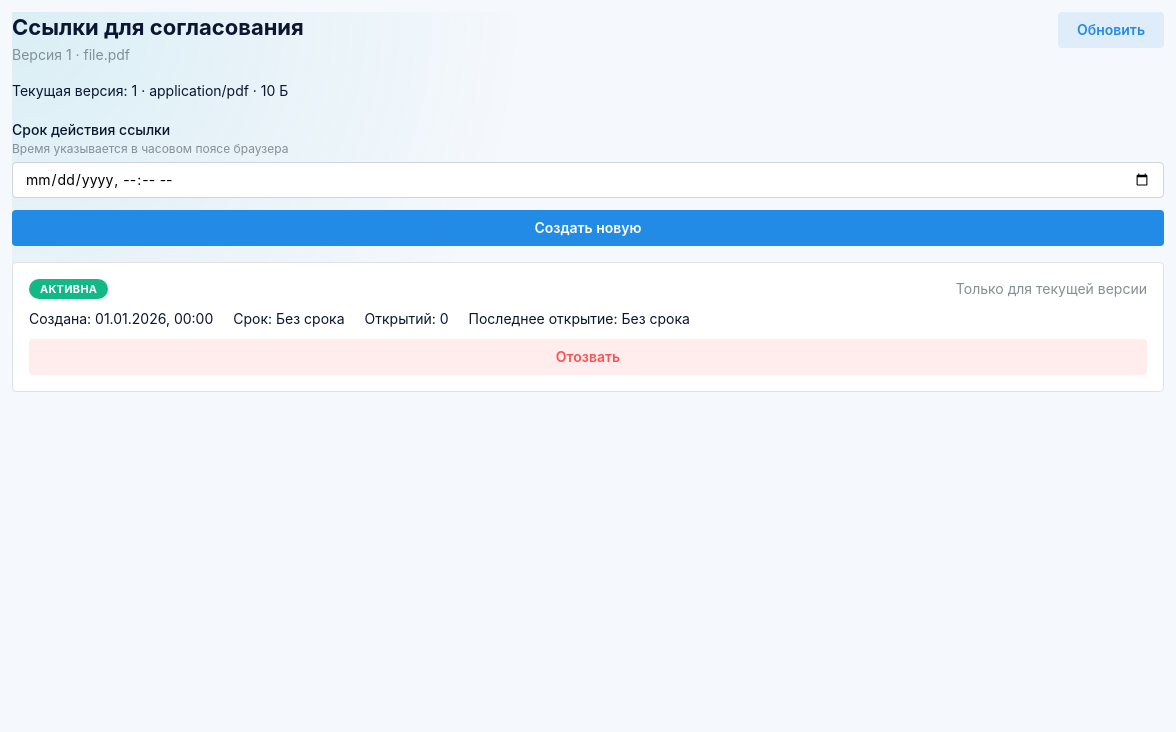
Test case: DocumentShareLinks › shows raw URL only after create and removes it after close
Check: the text "Активна" is shown, box left=40, top=280, right=97, bottom=298
Check: the text "raw-secret-token" is not shown
Step 1. Click the button "Создать новую" → (588, 228), box left=12, top=210, right=1164, bottom=246
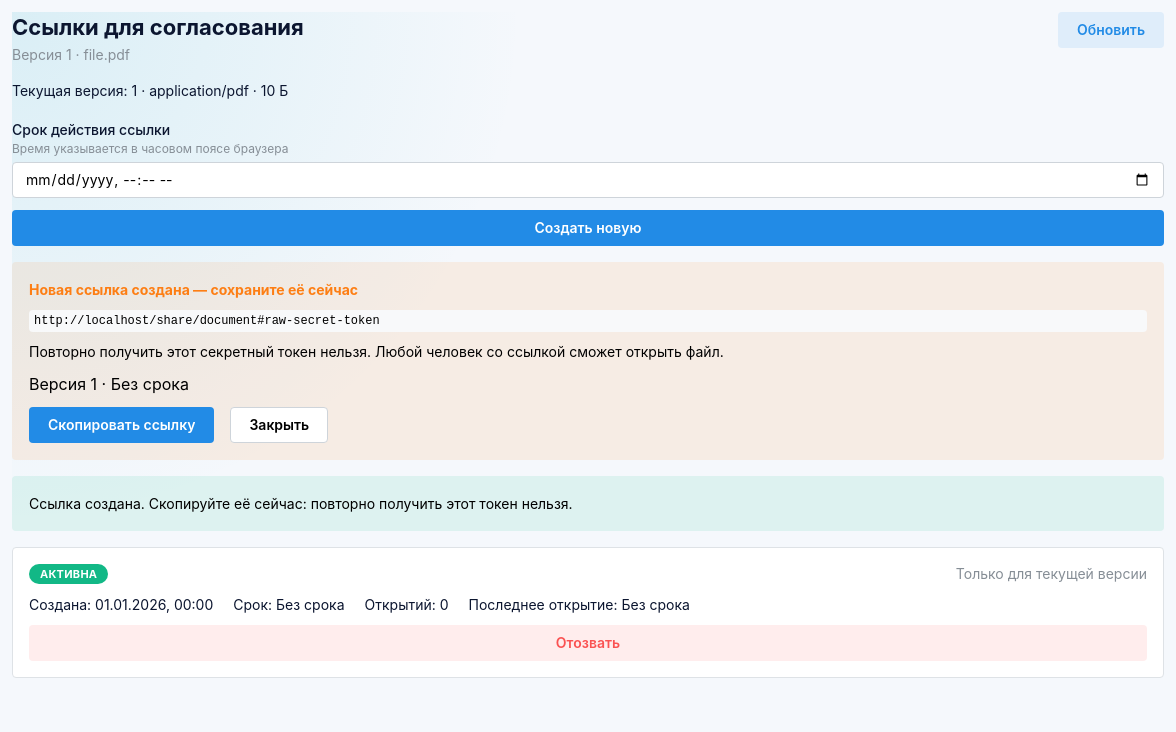
Check: the text "http://localhost/share/document#raw-secret-token" is shown, box left=29, top=310, right=1147, bottom=332
Check: the button "Скопировать ссылку" is shown, box left=29, top=407, right=214, bottom=443
Step 2. Click the button "Закрыть" → (279, 425), box left=230, top=407, right=328, bottom=443
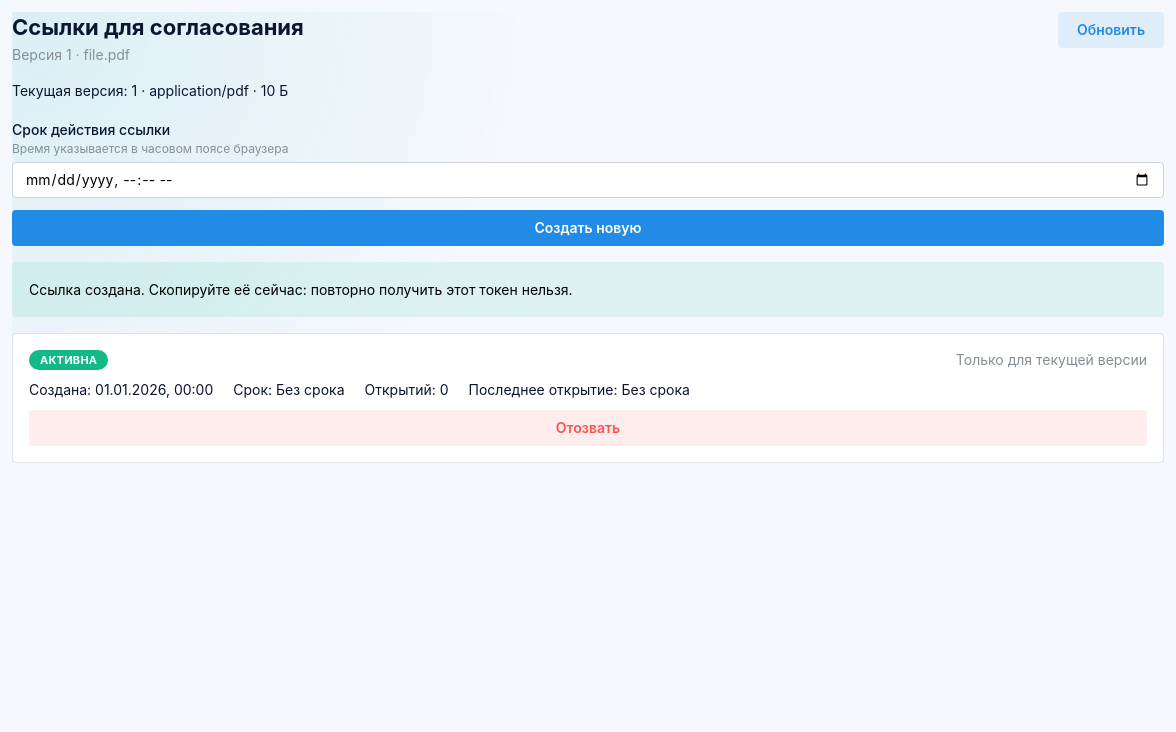
Check: the text "Активна" is shown, box left=40, top=351, right=97, bottom=369
Check: the text "raw-secret-token" is gone
